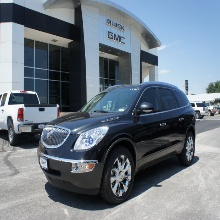no damage: (38, 82, 199, 205), (1, 88, 60, 143)
